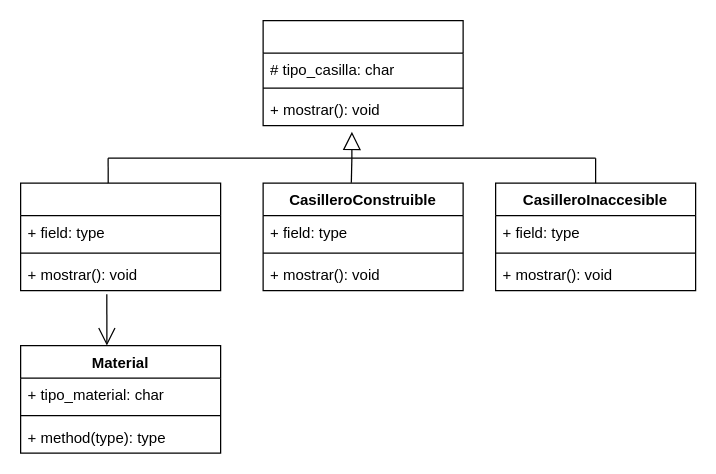
This 716x474 diagram has some shape labels left out. The shapes that lost their labels are listed below. From the top down, each one's box as (x1, y1, x2, y2) in pixels, then its label:
(262, 19, 463, 126): Casillero
(19, 182, 221, 291): CasilleroTransitable
